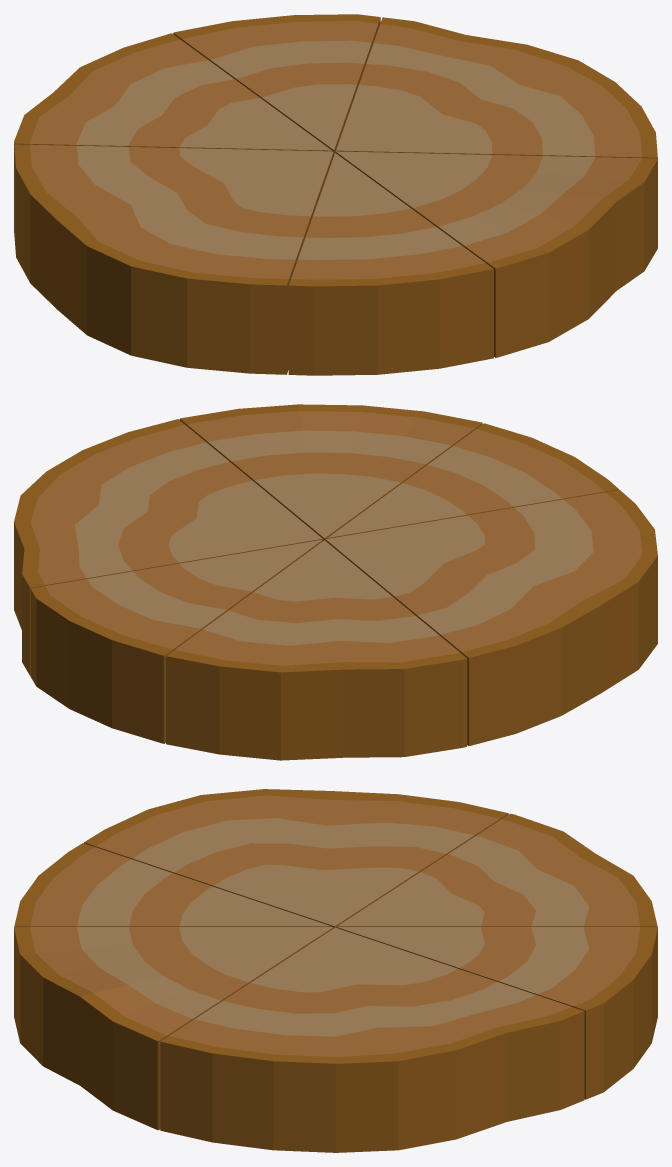
Rendered from WoodExlouer.fbx.
The picture shows the model from 3 angles, top to bottom: view 1: azimuth 30°, elevation 25°; view 2: azimuth 150°, elevation 25°; view 3: azimuth 270°, elevation 25°; orthographic projection.
Visible parts, largest first — view 1: Cylinder.004, Cylinder.006, Cylinder.005, Cylinder.001, Cylinder.003, Cylinder.002; view 2: Cylinder.004, Cylinder.003, Cylinder.001, Cylinder.002, Cylinder.006, Cylinder.005; view 3: Cylinder.001, Cylinder.006, Cylinder.004, Cylinder.002, Cylinder.003, Cylinder.005.
Part boxes in pixels (x1,y1,x2,y2): Cylinder.004: (14, 144, 333, 374); Cylinder.006: (335, 151, 657, 357); Cylinder.005: (288, 153, 493, 375); Cylinder.001: (336, 17, 657, 158); Cylinder.003: (14, 33, 331, 232); Cylinder.002: (173, 14, 380, 156); Cylinder.004: (325, 490, 657, 745); Cylinder.003: (166, 540, 467, 760); Cylinder.001: (14, 419, 322, 675); Cylinder.002: (30, 539, 323, 743); Cylinder.006: (179, 404, 482, 540); Cylinder.005: (327, 423, 619, 538); Cylinder.001: (160, 927, 584, 1152); Cylinder.006: (14, 927, 333, 1130); Cylinder.004: (84, 789, 508, 927); Cylinder.002: (336, 927, 657, 1099); Cylinder.003: (337, 813, 657, 926); Cylinder.005: (14, 843, 331, 926).
Size of the model in its own units: 130 by 20.81 by 129.
